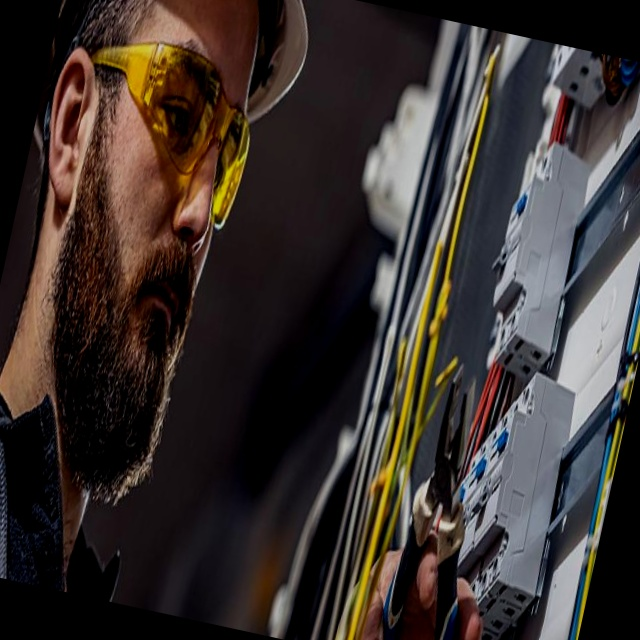goggles: (423, 75, 610, 259)
helmet: (385, 0, 640, 148)
